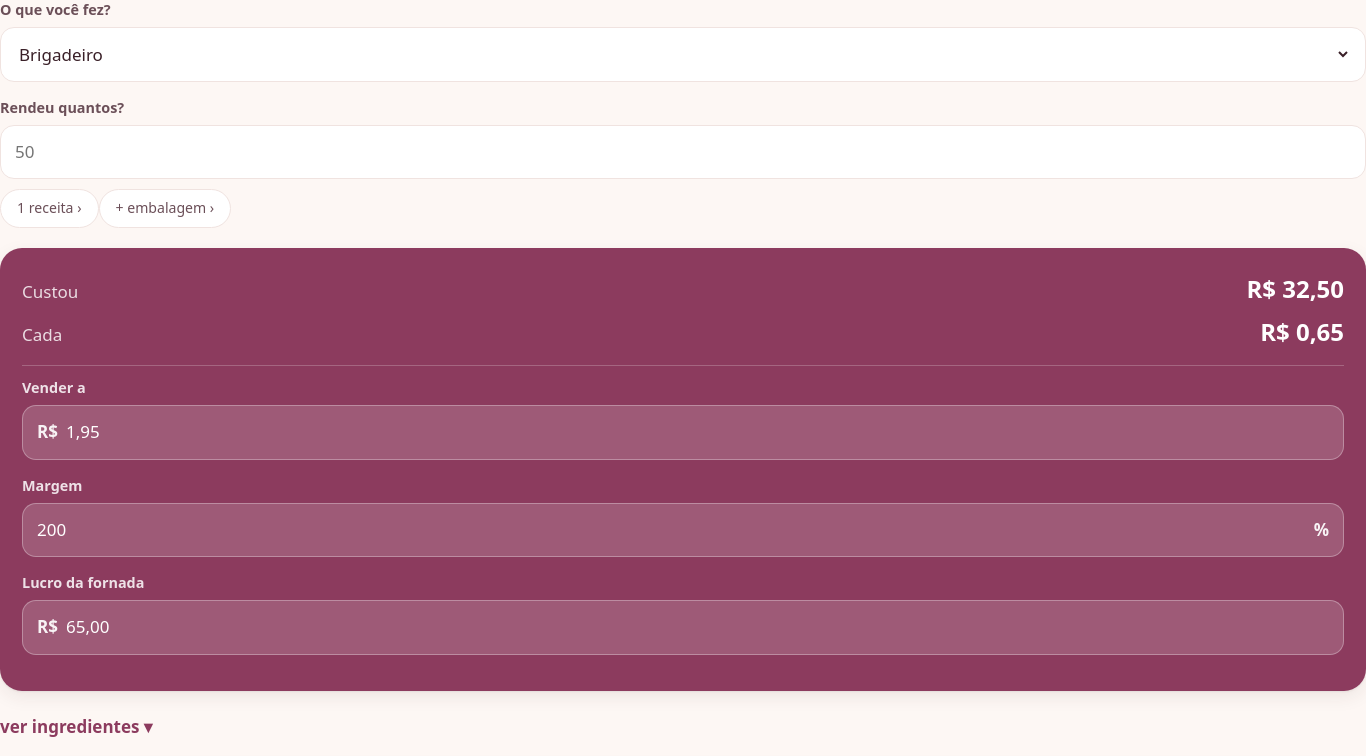
Calculadora › margem de -100% ou menos avisa em vez de mostrar preço negativo
Replace the text in the field labelled "Margem" with "-150" at (671,530), box [37,504,1306,556]
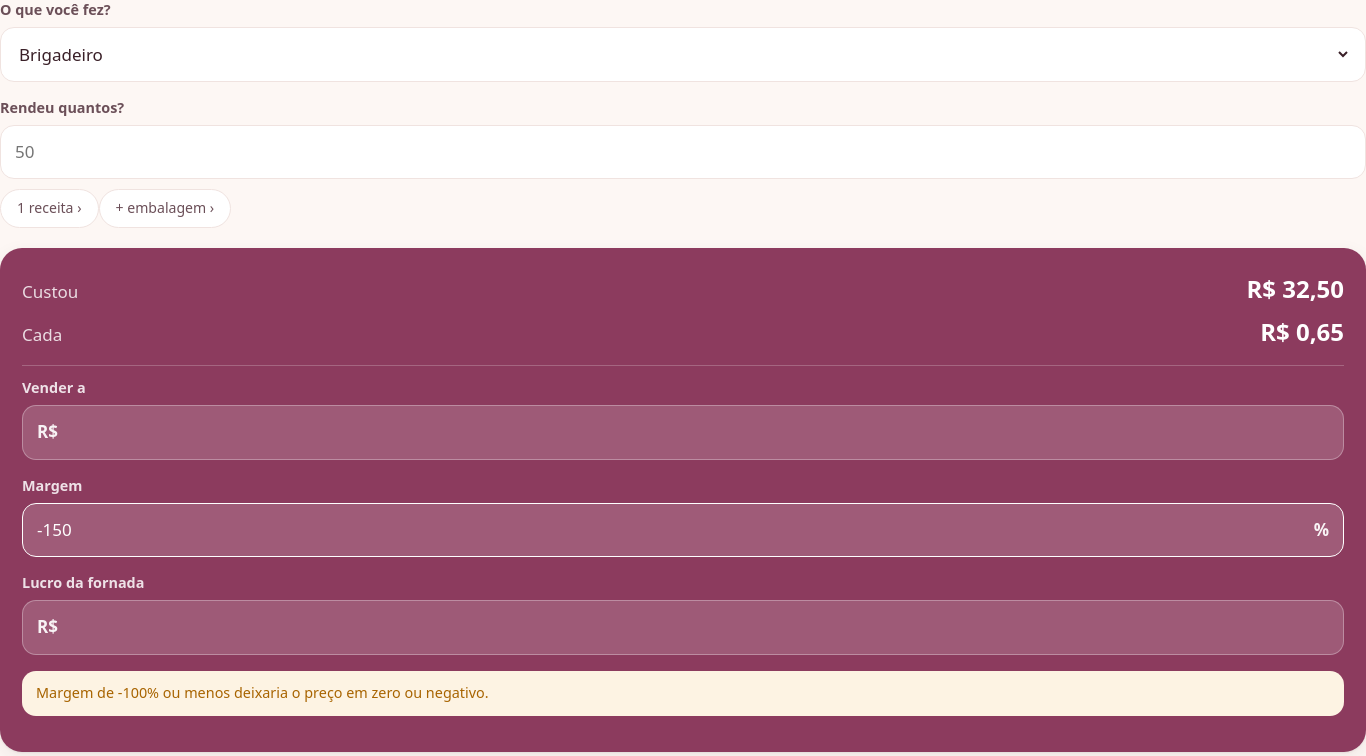
Result: the field labelled "Vender a" is empty at [66,406,1329,459]
Result: the text "Margem de -100% ou menos deixaria o preço em zero ou negativo." is shown at [22,671,1344,716]
